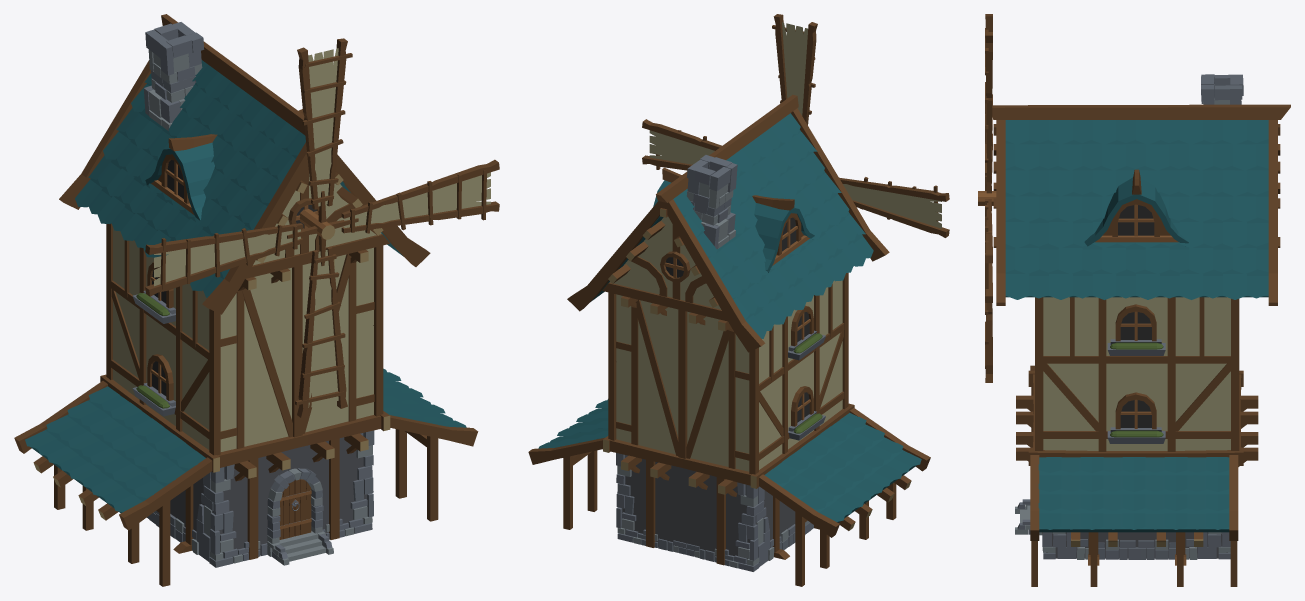
File: Mill_Baked.obj
The picture shows the model from 3 angles, left to right: view 1: azimuth 30°, elevation 25°; view 2: azimuth 150°, elevation 25°; view 3: azimuth 270°, elevation 25°; orthographic projection. The views are drawn at different scales.
Parts seen in each view (by area): view 1: Mill_Cube.128; view 2: Mill_Cube.128; view 3: Mill_Cube.128.
Part boxes in pixels (left/top/right/bottom): Mill_Cube.128: left=14, top=14, right=499, bottom=586; Mill_Cube.128: left=528, top=14, right=949, bottom=586; Mill_Cube.128: left=978, top=14, right=1290, bottom=586.
Size of the model in its own units: 3.4 by 4.8 by 2.73.
Materials: 1 (1 with a texture image).
